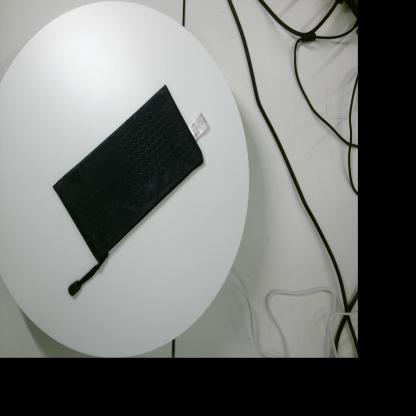Stationery: (53, 84, 209, 296)
